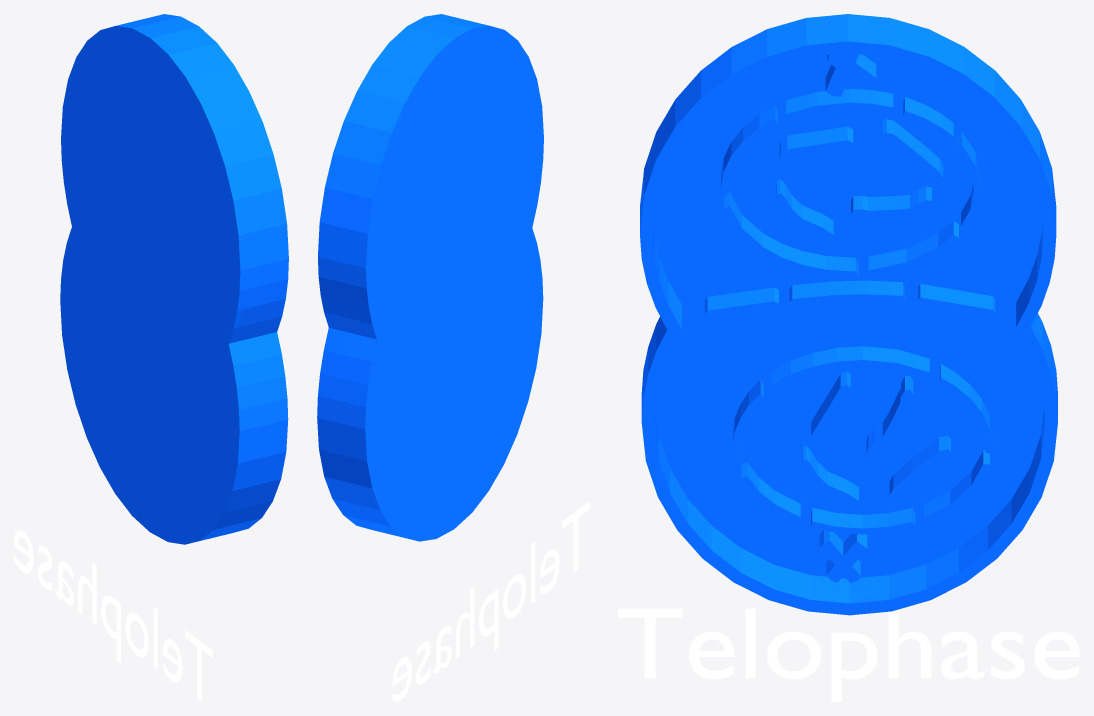
File: Telophase.glb
3 views of the same model, side by side, from view 1: azimuth 30°, elevation 25°; view 2: azimuth 150°, elevation 25°; view 3: azimuth 270°, elevation 25° (orthographic). The views are drawn at different scales.
Visible parts, largest first — view 1: mitosis Telophase; view 2: mitosis Telophase; view 3: mitosis Telophase.
Boxes of the visible parts, box(x1,y1,x2,y2) form: mitosis Telophase: box(14, 14, 288, 701); mitosis Telophase: box(317, 14, 589, 701); mitosis Telophase: box(618, 14, 1079, 701).
Bounding box in the file's own units: 1.63 × 11.14 × 6.58.
